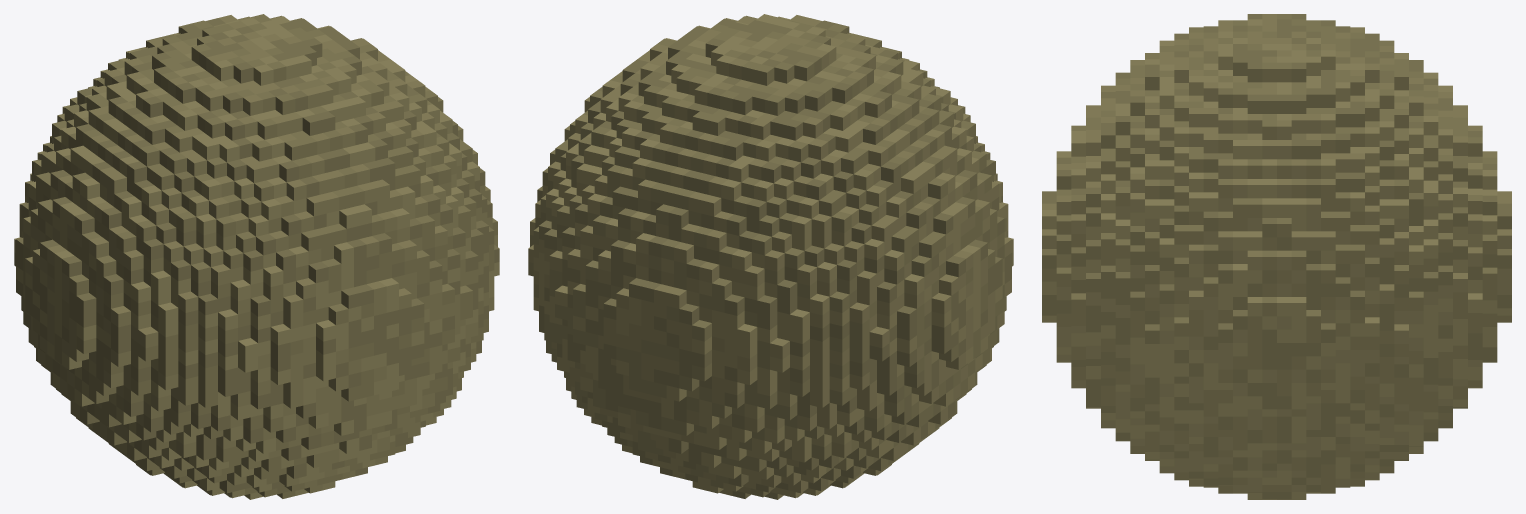
File: StoneCannon-8-BigSphere.obj
The picture shows the model from 3 angles, left to right: view 1: azimuth 30°, elevation 25°; view 2: azimuth 150°, elevation 25°; view 3: azimuth 270°, elevation 25°; orthographic projection.
Parts seen in each view (by area): view 1: BigSphere; view 2: BigSphere; view 3: BigSphere.
Part boxes in pixels (x1,y1,x2,y2): BigSphere: (14, 14, 499, 499); BigSphere: (528, 14, 1013, 499); BigSphere: (1042, 14, 1511, 499).
Bounding box in the file's own units: 6.4 × 6.4 × 6.4.
1 material, 1 textured.
